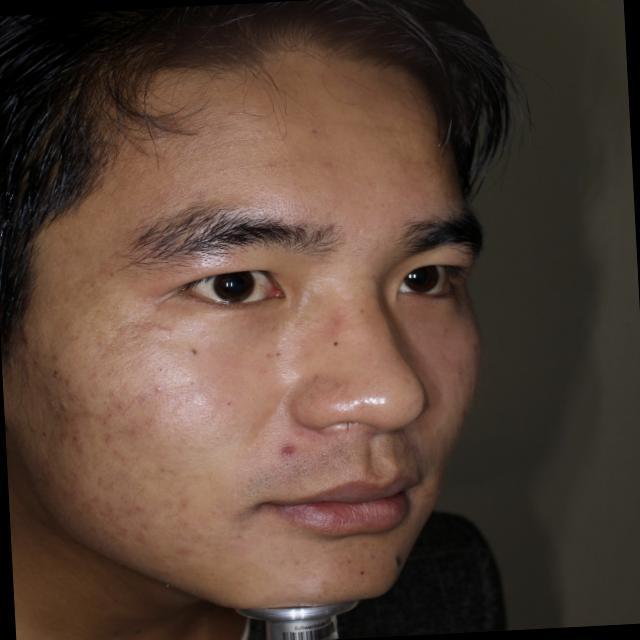acne: (97, 383, 131, 413), (63, 426, 93, 459), (50, 468, 77, 501), (120, 500, 147, 527), (46, 361, 68, 389), (272, 439, 299, 459)
